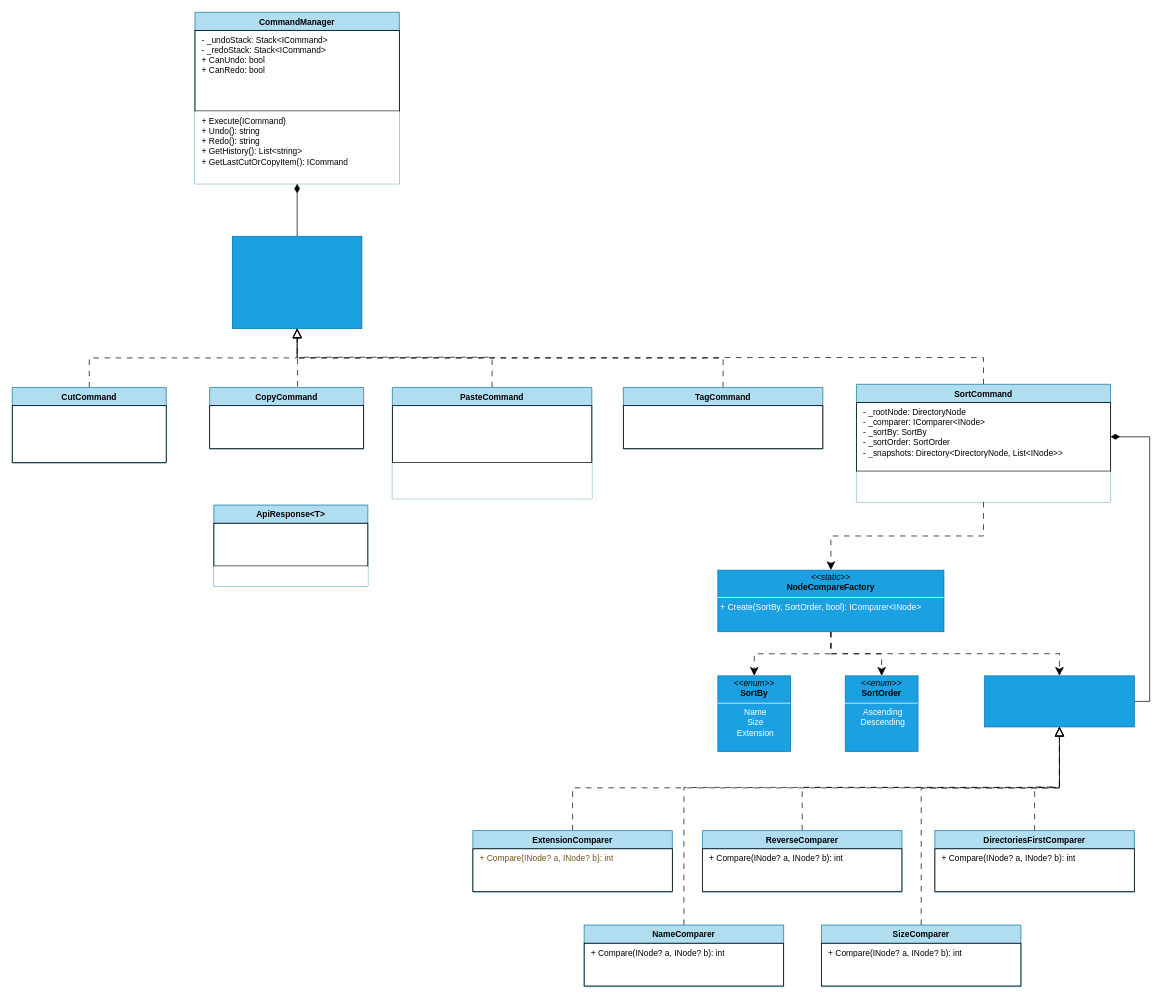
The diagram is 1171 pixels wide and 1000 high, and some of its shapes have lost their labels. The shapes that lost their labels are listed below. From the top down, each one's centre as x and y in pixels, then its label:
[297,282]: <<interface>> ICommand + Description: string + Execute(): void + Undo(): void
[89,433]: + CutItem: INode - _originalParent: DirectoryNode - _nodeName: string
[286,426]: + CopyItem: INode - _nodeName: strimg
[492,433]: - _pasteItem: INode - _isMove: bool - _target: DirectoryNode - _pasteNode: INode
[723,426]: - _nodeName: string - _tagLevel: string
[492,480]: - SetUniqueName( DirectoryNode , INode ): - IsSelfOrParent(INode, INode)
[983,486]: - SortDirectory(DirectoryNode) : void
[290,544]: + Result: T + TraverseLog: List<string>
[1059,701]: <<interface>> ICompare<INode> + Compare(INode, INode): int
